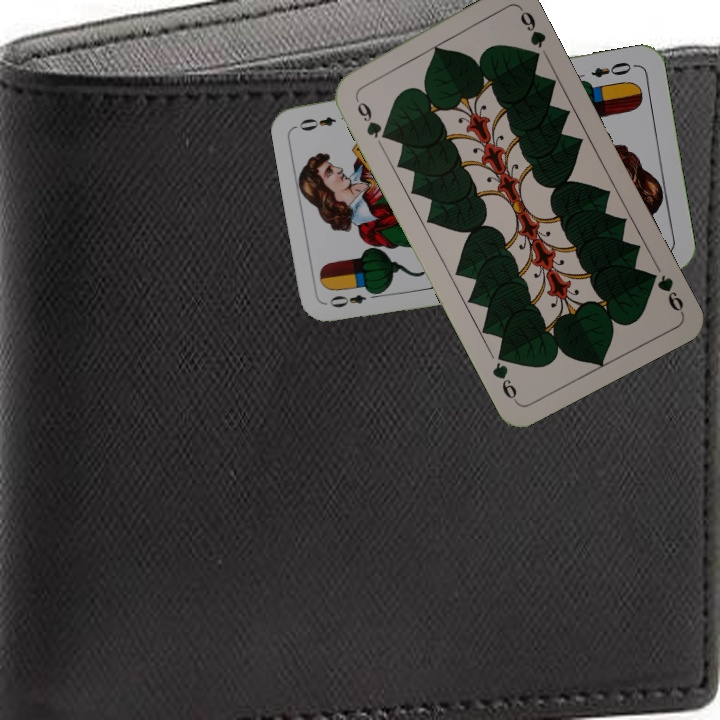EO: (325, 286, 383, 310), (587, 58, 639, 80)
G9: (642, 267, 687, 316), (350, 92, 392, 143)
